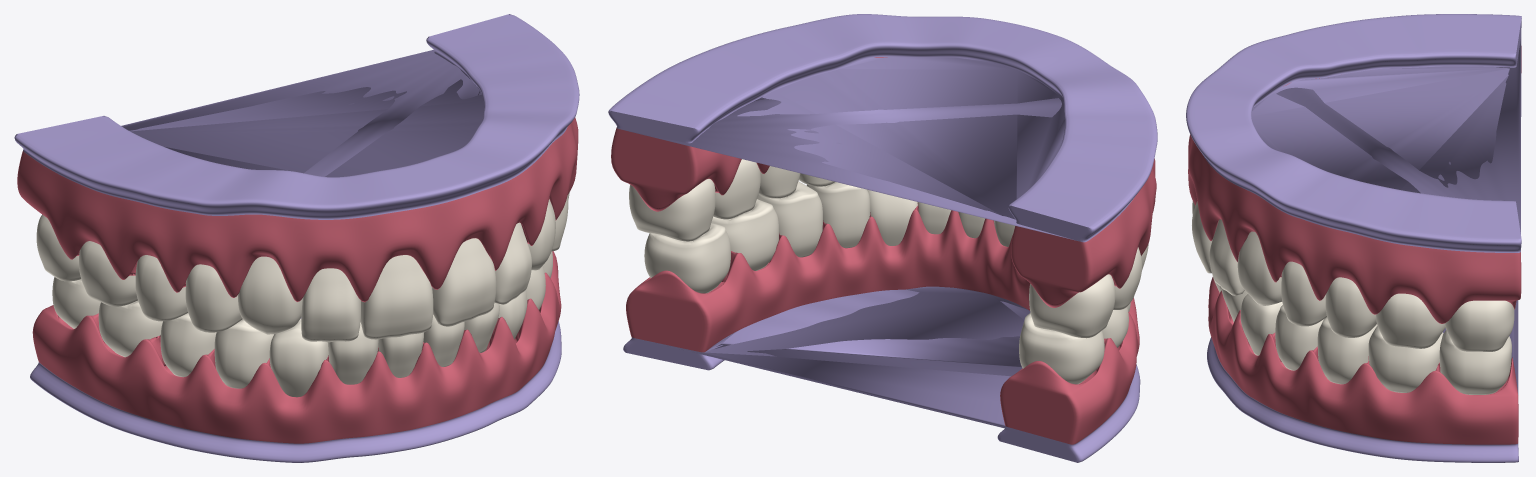
Rendered from oral-cavity-aesthetic.glb.
3 views of the same model, side by side, from view 1: azimuth 30°, elevation 25°; view 2: azimuth 150°, elevation 25°; view 3: azimuth 270°, elevation 25° (orthographic). The views are drawn at different scales.
Parts seen in each view (by area): view 1: U_base, U_gum, L_gum, L_base, U_R_1_central, U_L_1_central, U_R_2_lateral, U_R_3_canine, L_R_3_canine, L_R_4_premolar1, U_R_4_premolar1, U_R_6_molar1 (+13 smaller); view 2: U_base, L_gum, L_base, U_gum, L_L_7_molar2, L_R_7_molar2, U_R_7_molar2, U_L_7_molar2, L_L_6_molar1, L_L_5_premolar2, L_L_4_premolar1, U_L_6_molar1 (+5 smaller); view 3: U_base, U_gum, L_gum, L_base, L_L_7_molar2, U_L_7_molar2, L_L_6_molar1, U_L_6_molar1, L_L_5_premolar2, U_L_5_premolar2, U_L_4_premolar1, U_L_3_canine (+5 smaller).
Part boxes in pixels (x1,y1,x2,y2): U_base: [14, 14, 579, 219]; U_gum: [17, 117, 578, 302]; L_gum: [32, 251, 561, 443]; L_base: [30, 317, 561, 462]; U_R_1_central: [360, 255, 433, 339]; U_L_1_central: [432, 238, 496, 326]; U_R_2_lateral: [301, 268, 360, 342]; U_R_3_canine: [238, 256, 302, 334]; L_R_3_canine: [269, 318, 328, 397]; L_R_4_premolar1: [214, 319, 274, 388]; U_R_4_premolar1: [185, 264, 242, 332]; U_R_6_molar1: [79, 241, 137, 306]; U_base: [608, 14, 1157, 242]; L_gum: [626, 203, 1139, 444]; L_base: [623, 286, 1140, 462]; U_gum: [611, 57, 1156, 307]; L_L_7_molar2: [644, 223, 730, 293]; L_R_7_molar2: [1019, 313, 1104, 384]; U_R_7_molar2: [1029, 274, 1115, 338]; U_L_7_molar2: [629, 179, 715, 241]; L_L_6_molar1: [711, 199, 778, 270]; L_L_5_premolar2: [757, 181, 822, 257]; L_L_4_premolar1: [806, 182, 870, 248]; U_L_6_molar1: [713, 159, 760, 219]; U_base: [1186, 14, 1521, 252]; U_gum: [1188, 46, 1521, 323]; L_gum: [1208, 277, 1518, 444]; L_base: [1207, 300, 1518, 462]; L_L_7_molar2: [1439, 330, 1511, 394]; U_L_7_molar2: [1445, 300, 1514, 351]; L_L_6_molar1: [1368, 326, 1443, 392]; U_L_6_molar1: [1376, 293, 1445, 348]; L_L_5_premolar2: [1317, 317, 1377, 384]; U_L_5_premolar2: [1325, 277, 1376, 337]; U_L_4_premolar1: [1281, 261, 1326, 326]; U_L_3_canine: [1237, 231, 1282, 305].
Size of the model in its own units: 8.29 by 4.24 by 5.17.
